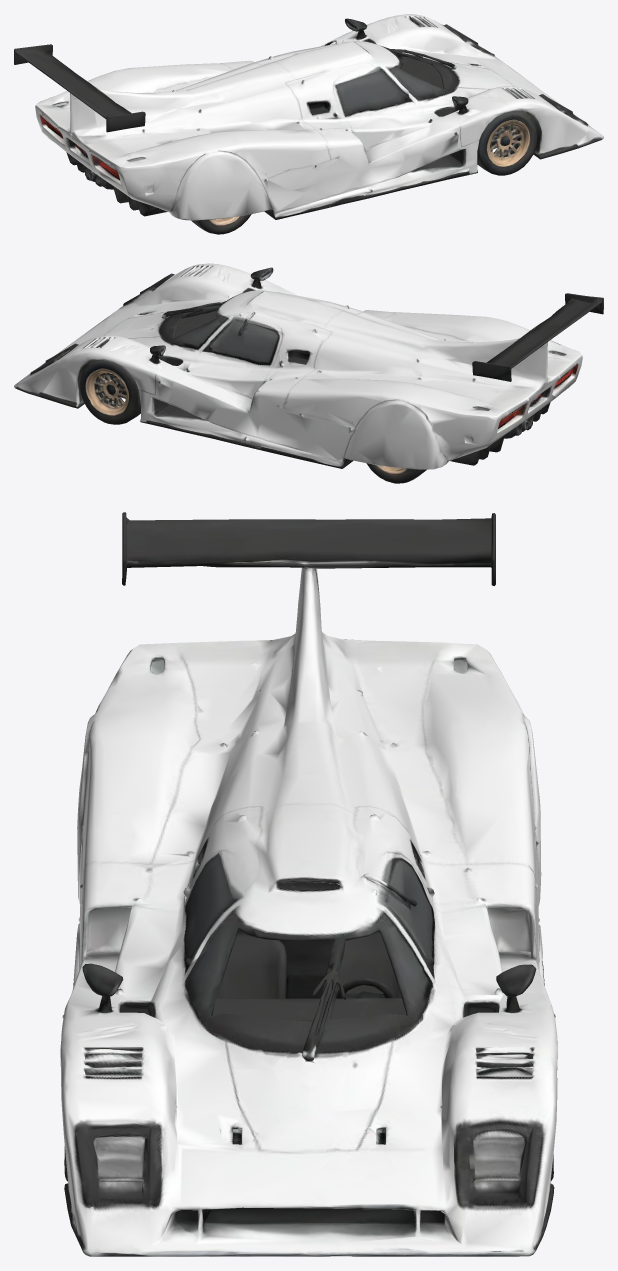
Rendered from longhorn.glb.
3 views of the same model, one above another, from view 1: azimuth 30°, elevation 25°; view 2: azimuth 150°, elevation 25°; view 3: azimuth 270°, elevation 25° (orthographic). The views are drawn at different scales.
Visible parts, largest first — view 1: tripo_node_9d89a9ed-b3e0-4907-9fbd-27290223811d; view 2: tripo_node_9d89a9ed-b3e0-4907-9fbd-27290223811d; view 3: tripo_node_9d89a9ed-b3e0-4907-9fbd-27290223811d.
Part boxes in pixels (bbox=[...]): tripo_node_9d89a9ed-b3e0-4907-9fbd-27290223811d: bbox=[14, 14, 603, 234]; tripo_node_9d89a9ed-b3e0-4907-9fbd-27290223811d: bbox=[14, 263, 603, 483]; tripo_node_9d89a9ed-b3e0-4907-9fbd-27290223811d: bbox=[60, 512, 557, 1256].
Size of the model in its own units: 0.9996 by 0.281 by 0.4404.
1 material, 1 textured.
